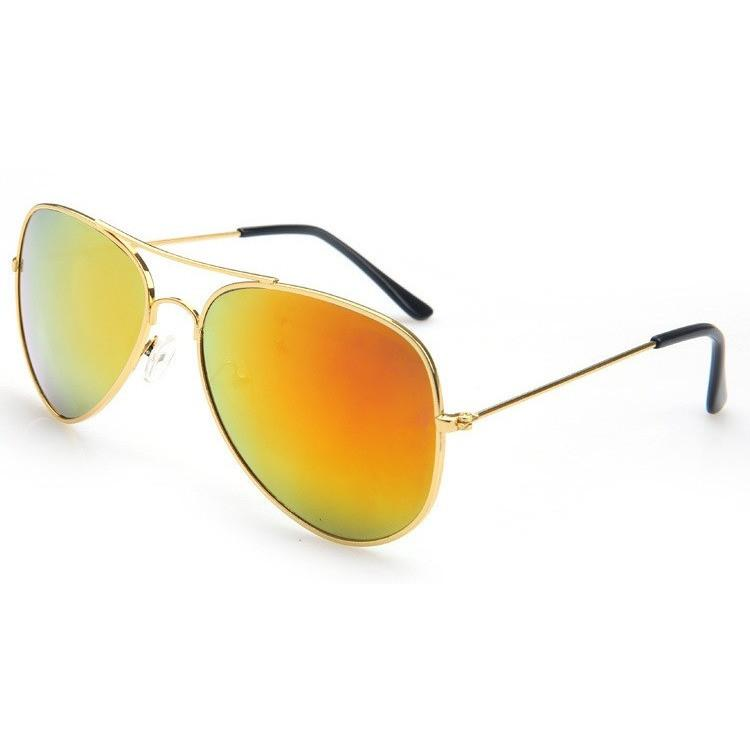sunglasses: (6, 191, 737, 541)
